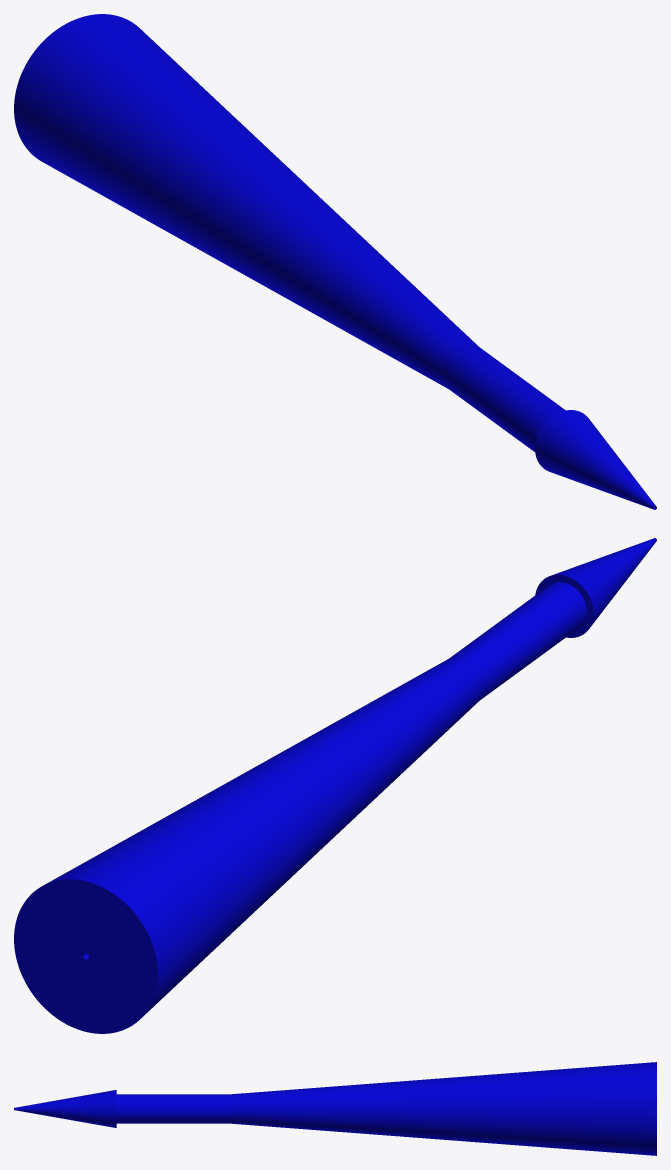
Rendered from NozzleW_left.gltf.
The picture shows the model from 3 angles, top to bottom: view 1: azimuth 30°, elevation 25°; view 2: azimuth 150°, elevation 25°; view 3: azimuth 270°, elevation 25°; orthographic projection. The views are drawn at different scales.
Visible parts, largest first — view 1: NozzleW_left; view 2: NozzleW_left; view 3: NozzleW_left.
Part boxes in pixels (<box>): NozzleW_left: <box>14,14,656,509</box>; NozzleW_left: <box>14,538,656,1033</box>; NozzleW_left: <box>14,1062,656,1155</box>.
Bounding box in the file's own units: 860 × 860 × 5890.
